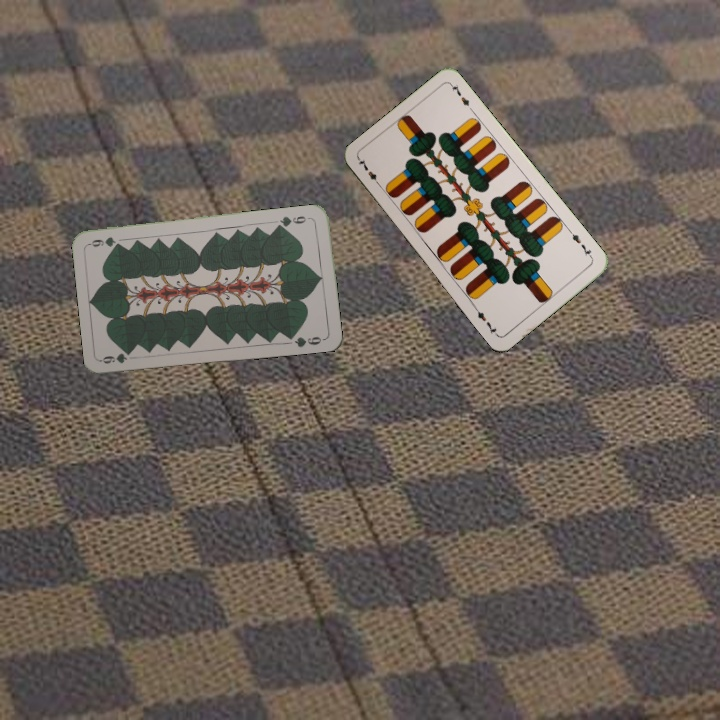E7: (354, 155, 384, 190), (566, 227, 595, 261)
G9: (274, 212, 314, 230), (98, 348, 134, 366)
